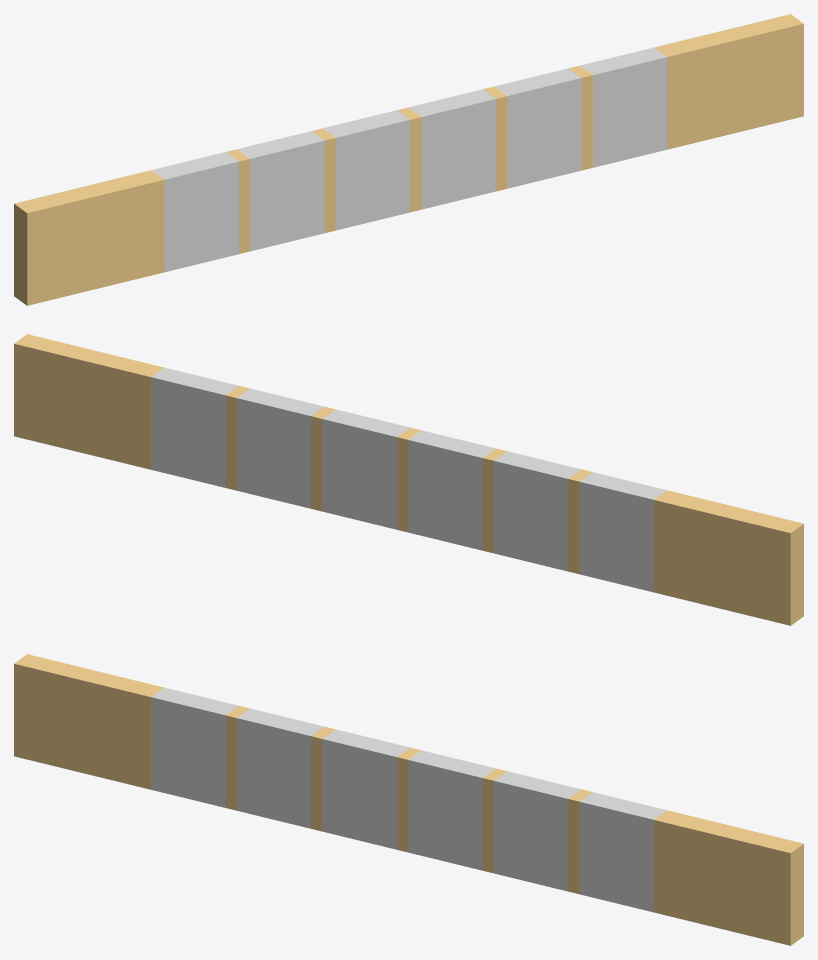
Rendered from sensor-gate.glb.
The picture shows the model from 3 angles, top to bottom: view 1: azimuth 30°, elevation 25°; view 2: azimuth 150°, elevation 25°; view 3: azimuth 330°, elevation 25°; orthographic projection.
Parts seen in each view (by area): view 1: gate; view 2: gate; view 3: gate.
Boxes of the visible parts, x1,y1,x2,y2 form: gate: (14, 14, 803, 305); gate: (14, 334, 803, 625); gate: (14, 654, 803, 945).
Size of the model in its own units: 0.68 by 0.0775 by 0.02.
